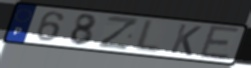6: (35, 10, 66, 43)
8: (69, 13, 99, 47)
E: (197, 24, 242, 62)
K: (169, 23, 204, 58)
L: (131, 18, 162, 55)
Z: (96, 14, 141, 51)
